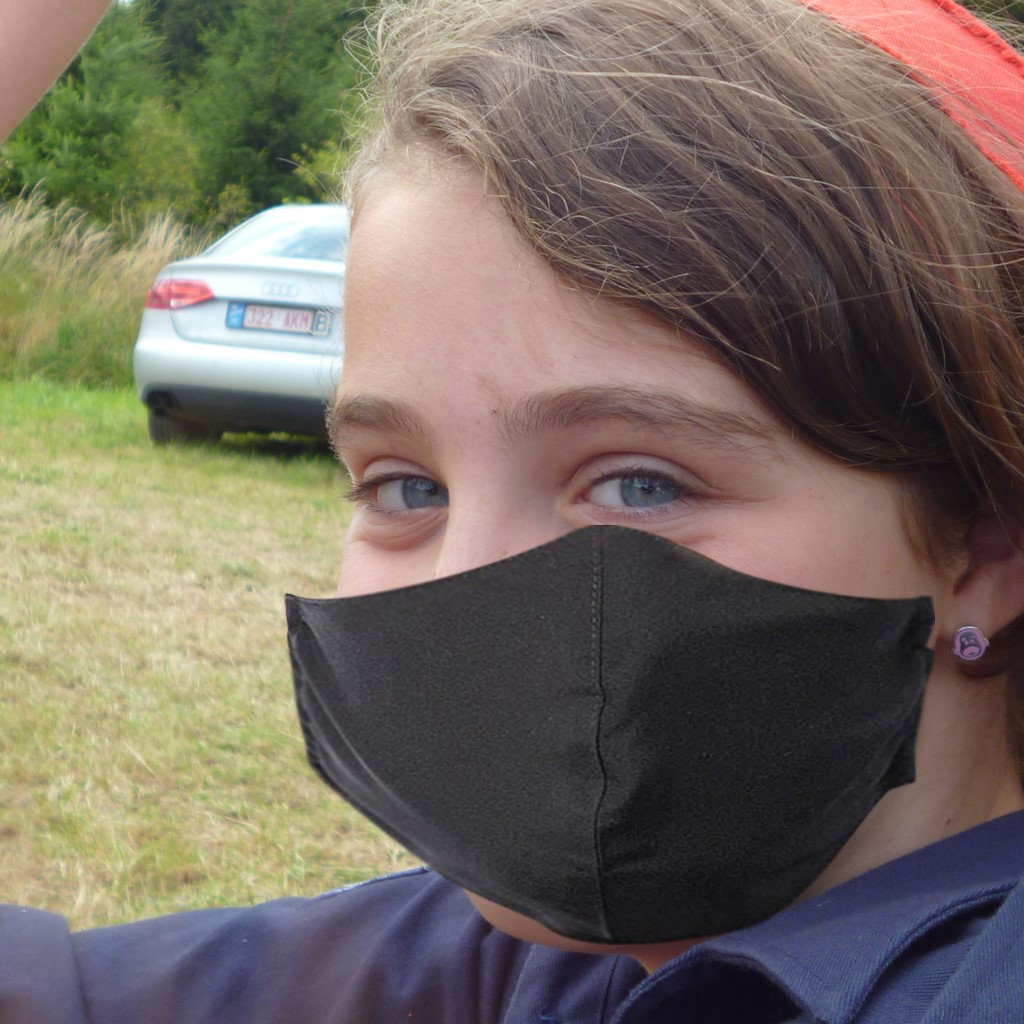con_mascara: (282, 34, 976, 934)
